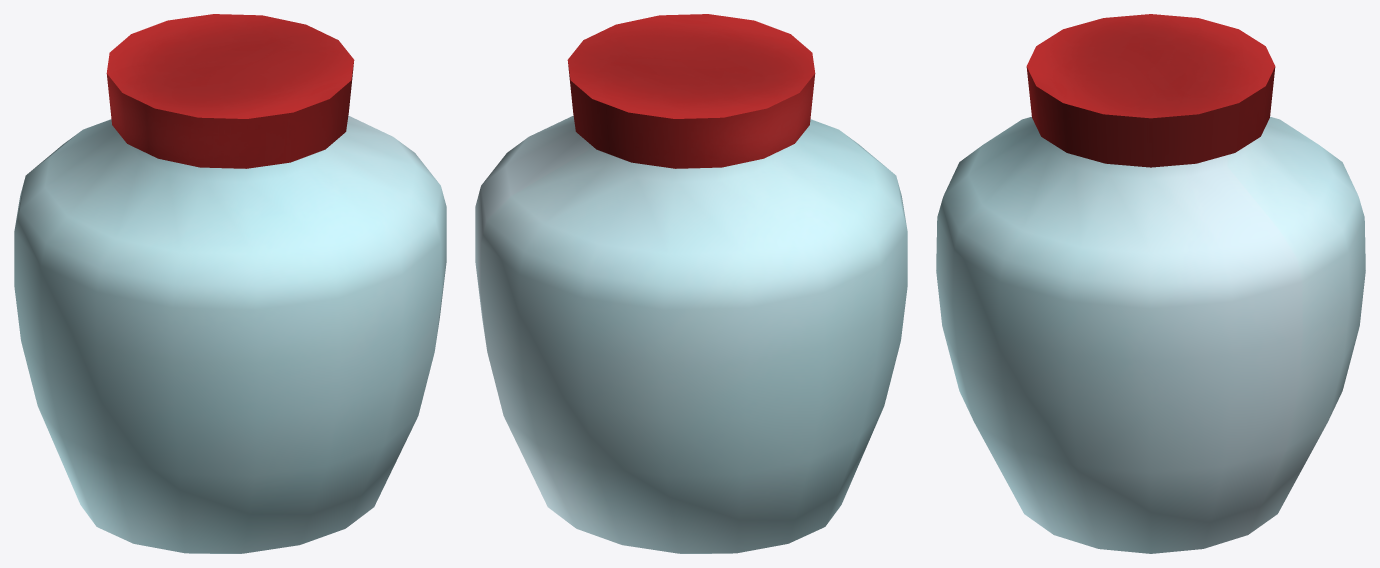
Rendered from jellybean_jar.fbx.
The picture shows the model from 3 angles, left to right: view 1: azimuth 30°, elevation 25°; view 2: azimuth 150°, elevation 25°; view 3: azimuth 270°, elevation 25°; orthographic projection.
Visible parts, largest first — view 1: jellybeanjar; view 2: jellybeanjar; view 3: jellybeanjar.
Part boxes in pixels (left/top/right/bottom): jellybeanjar: left=14, top=14, right=446, bottom=553; jellybeanjar: left=475, top=14, right=907, bottom=553; jellybeanjar: left=936, top=14, right=1365, bottom=553.
Bounding box in the file's own units: 65.79 × 74.33 × 65.28.
